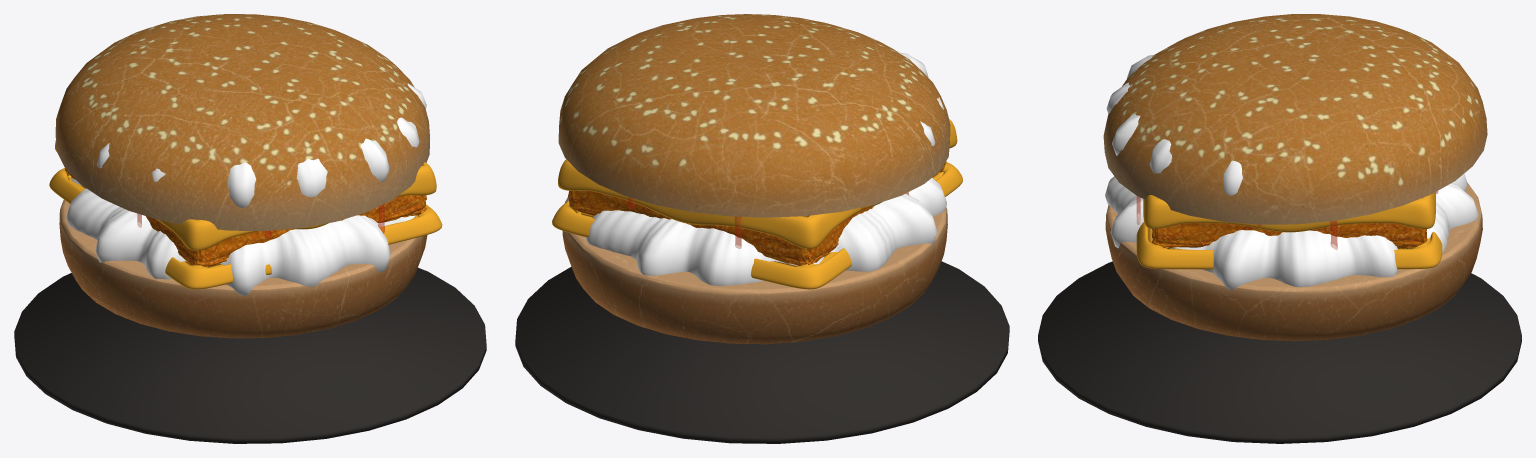
File: crispy-paneer-burger-high.glb
3 views of the same model, side by side, from view 1: azimuth 30°, elevation 25°; view 2: azimuth 150°, elevation 25°; view 3: azimuth 270°, elevation 25° (orthographic). The views are drawn at different scales.
Visible parts, largest first — view 1: Burger_Top_Bun_Full, Serving_Slate_Plate, Burger_Bottom_Bun, Burger_Chutney_Bottom, Burger_Chutney_Top, Burger_Cheese_Bottom, Burger_Paneer_Patty, Burger_Cheese_Top; view 2: Burger_Top_Bun_Full, Serving_Slate_Plate, Burger_Bottom_Bun, Burger_Chutney_Bottom, Burger_Cheese_Top, Burger_Cheese_Bottom, Burger_Paneer_Patty; view 3: Burger_Top_Bun_Full, Serving_Slate_Plate, Burger_Bottom_Bun, Burger_Chutney_Bottom, Burger_Paneer_Patty, Burger_Cheese_Top, Burger_Cheese_Bottom, Burger_Chutney_Top.
Part boxes in pixels (x1,y1,x2,y2): Burger_Top_Bun_Full: [55, 14, 429, 230]; Serving_Slate_Plate: [14, 267, 486, 443]; Burger_Bottom_Bun: [59, 200, 427, 338]; Burger_Chutney_Bottom: [66, 177, 426, 295]; Burger_Chutney_Top: [97, 83, 426, 207]; Burger_Cheese_Bottom: [49, 168, 442, 289]; Burger_Paneer_Patty: [65, 168, 426, 266]; Burger_Cheese_Top: [55, 140, 436, 250]; Burger_Top_Bun_Full: [558, 14, 950, 217]; Serving_Slate_Plate: [515, 261, 1009, 443]; Burger_Bottom_Bun: [562, 198, 947, 344]; Burger_Chutney_Bottom: [566, 177, 946, 285]; Burger_Cheese_Top: [558, 119, 957, 248]; Burger_Cheese_Bottom: [552, 162, 962, 289]; Burger_Paneer_Patty: [568, 161, 946, 265]; Burger_Top_Bun_Full: [1103, 14, 1487, 224]; Serving_Slate_Plate: [1038, 261, 1521, 443]; Burger_Bottom_Bun: [1105, 182, 1482, 341]; Burger_Chutney_Bottom: [1105, 174, 1478, 289]; Burger_Paneer_Patty: [1151, 223, 1427, 248]; Burger_Cheese_Top: [1143, 192, 1435, 232]; Burger_Cheese_Bottom: [1136, 222, 1442, 269]; Burger_Chutney_Top: [1106, 55, 1242, 195].
Size of the model in its own units: 1.7 by 1.12 by 1.7.
Materials: 8 (2 with a texture image).
